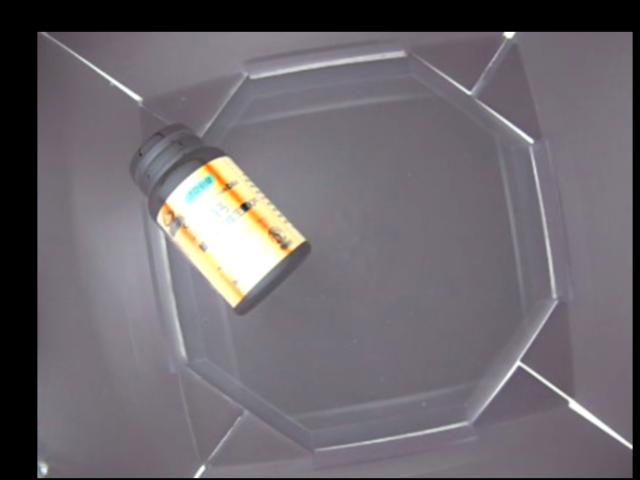Bottle: (128, 124, 309, 315)
